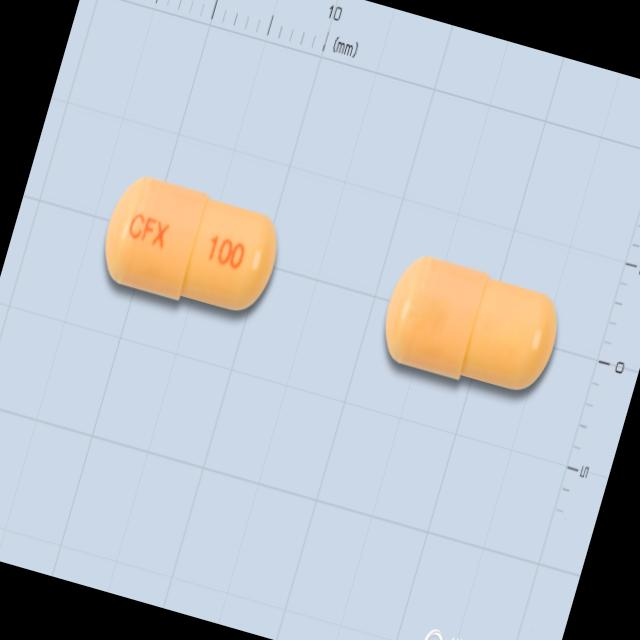Kukje Cefixime Cap: (94, 167, 288, 324)
